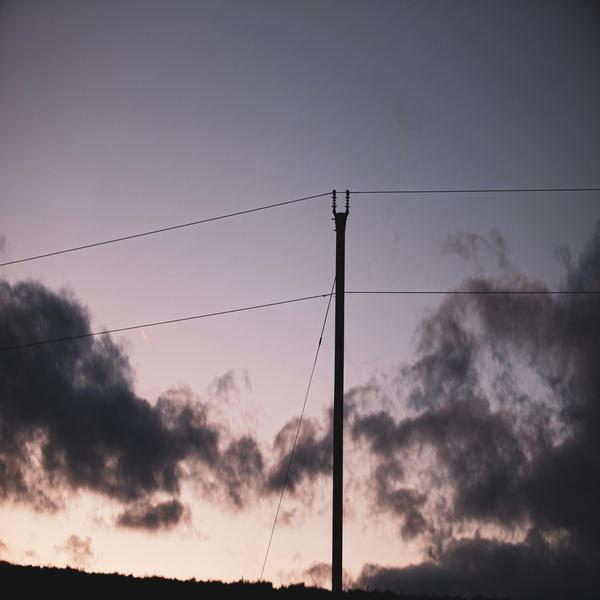utility_pole: (312, 179, 367, 311)
